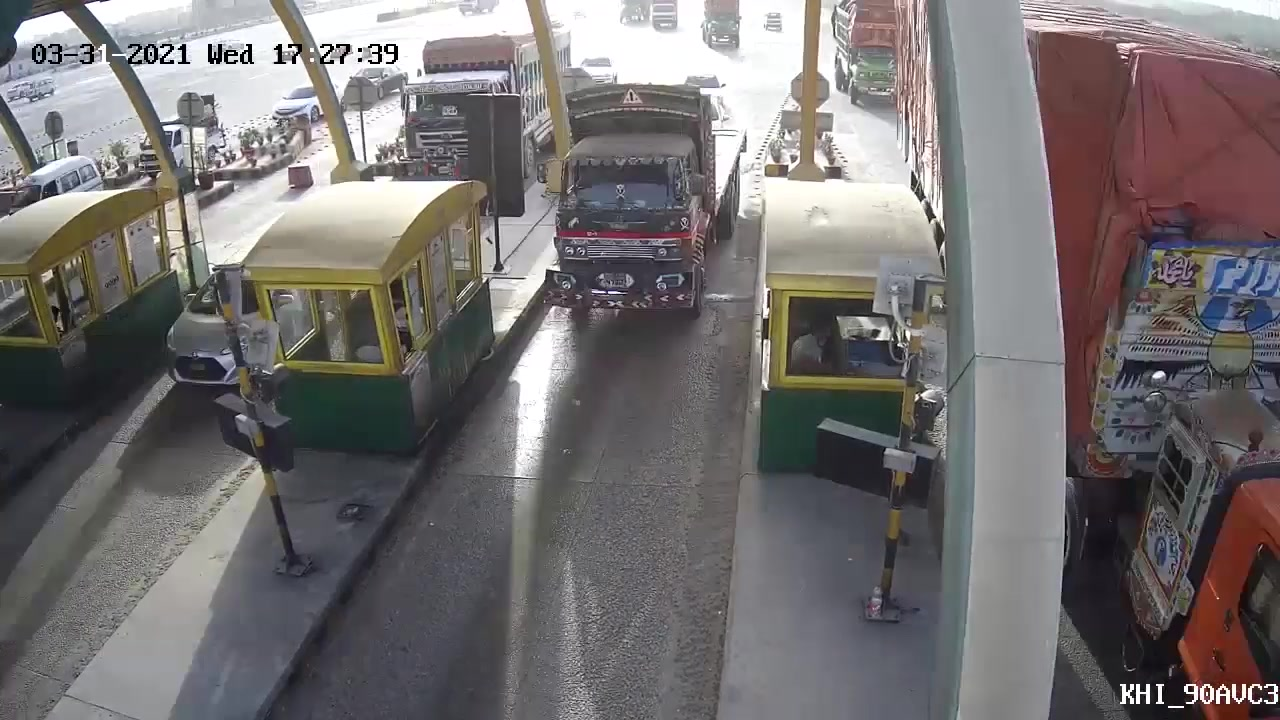F4: (527, 72, 754, 320)
